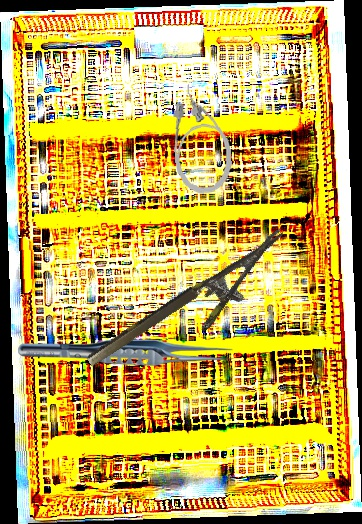Cannula: (168, 81, 235, 197)
Needle Holder: (84, 228, 305, 393)
Tissue Forceps: (18, 338, 236, 367)
